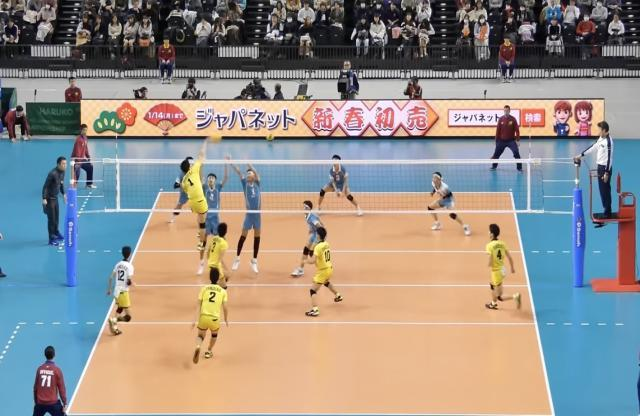spike: (178, 129, 224, 252)
